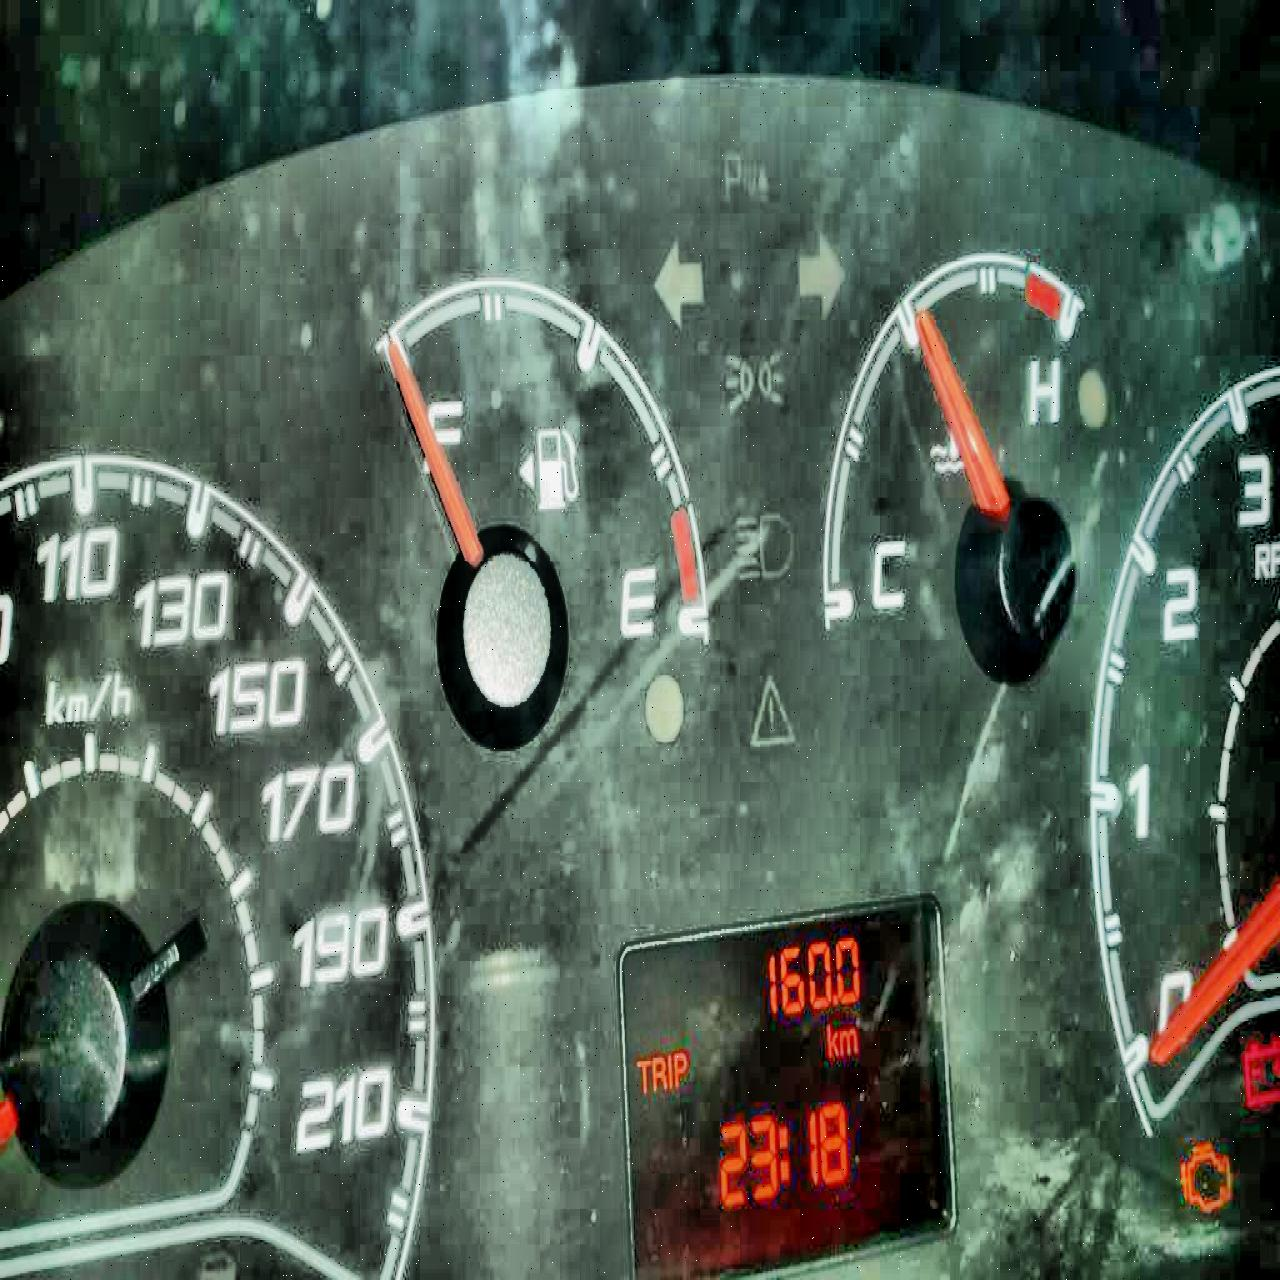-: (831, 992, 837, 1007)
0: (835, 933, 860, 1002), (806, 938, 831, 1007)
1: (803, 1109, 818, 1184), (764, 948, 777, 1013)
2: (716, 1117, 745, 1206)
3: (749, 1114, 777, 1200)
6: (779, 942, 805, 1016)
8: (818, 1099, 846, 1182)
X: (634, 1054, 651, 1096), (777, 1124, 789, 1183), (651, 1051, 666, 1091), (673, 1047, 687, 1089), (839, 1024, 859, 1054), (825, 1017, 837, 1058), (666, 1049, 673, 1091)
odometer: (615, 886, 962, 1275)
